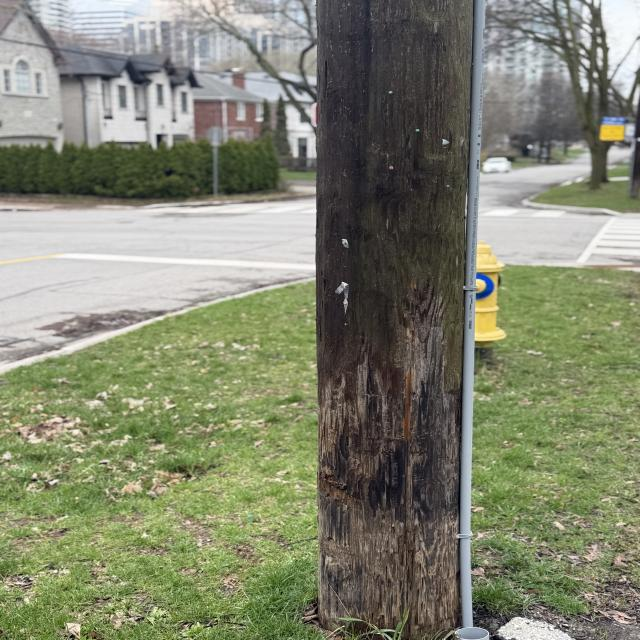Electrical Pole: (313, 2, 501, 640)
